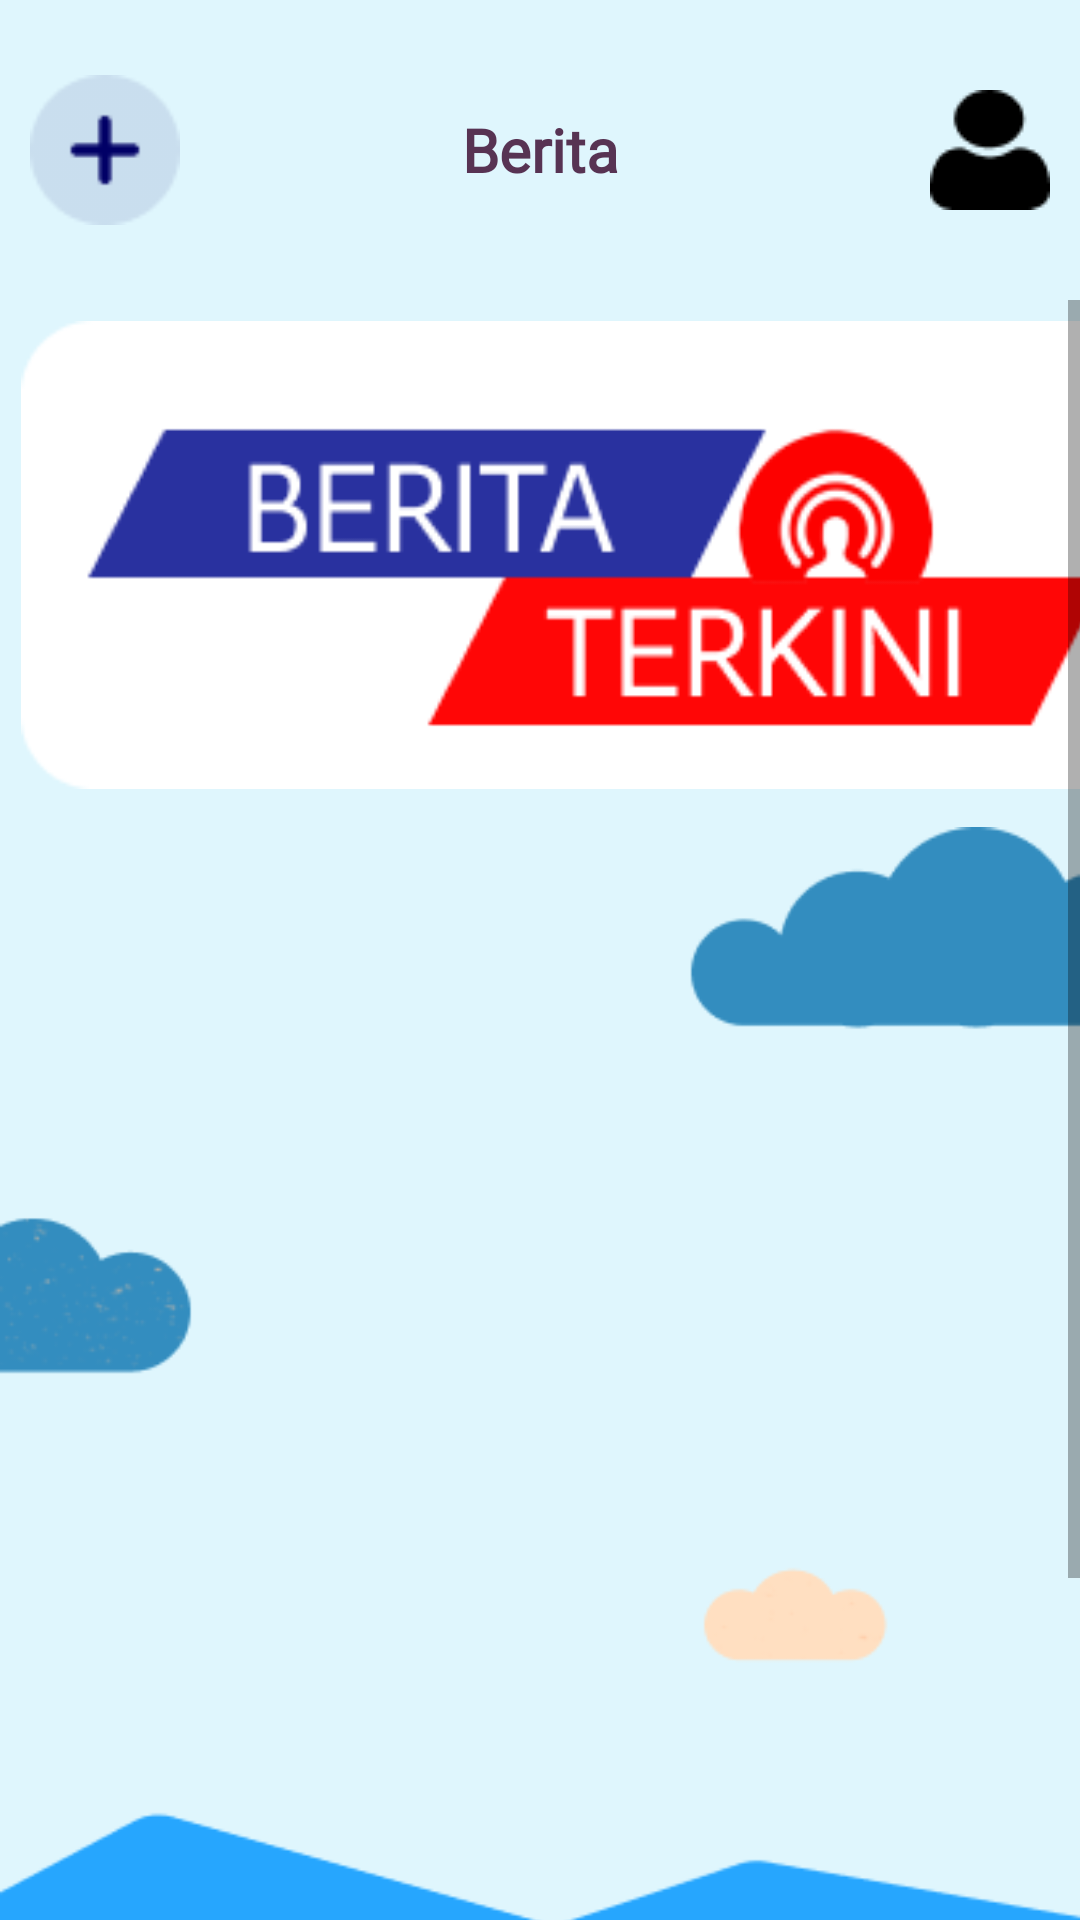

Icon click points for this 1080 x 1920 phone screenshot, format (x=x, y=y):
profil: (x=990, y=150)
tambah: (x=105, y=150)
